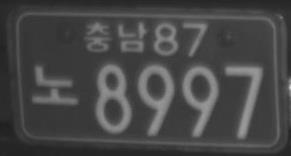7: (223, 64, 265, 140), (180, 20, 209, 57)
8: (91, 62, 133, 136), (151, 21, 179, 57)
9: (135, 63, 176, 138), (180, 64, 221, 138)
노: (30, 63, 80, 107)
충남_O: (83, 19, 149, 54)
